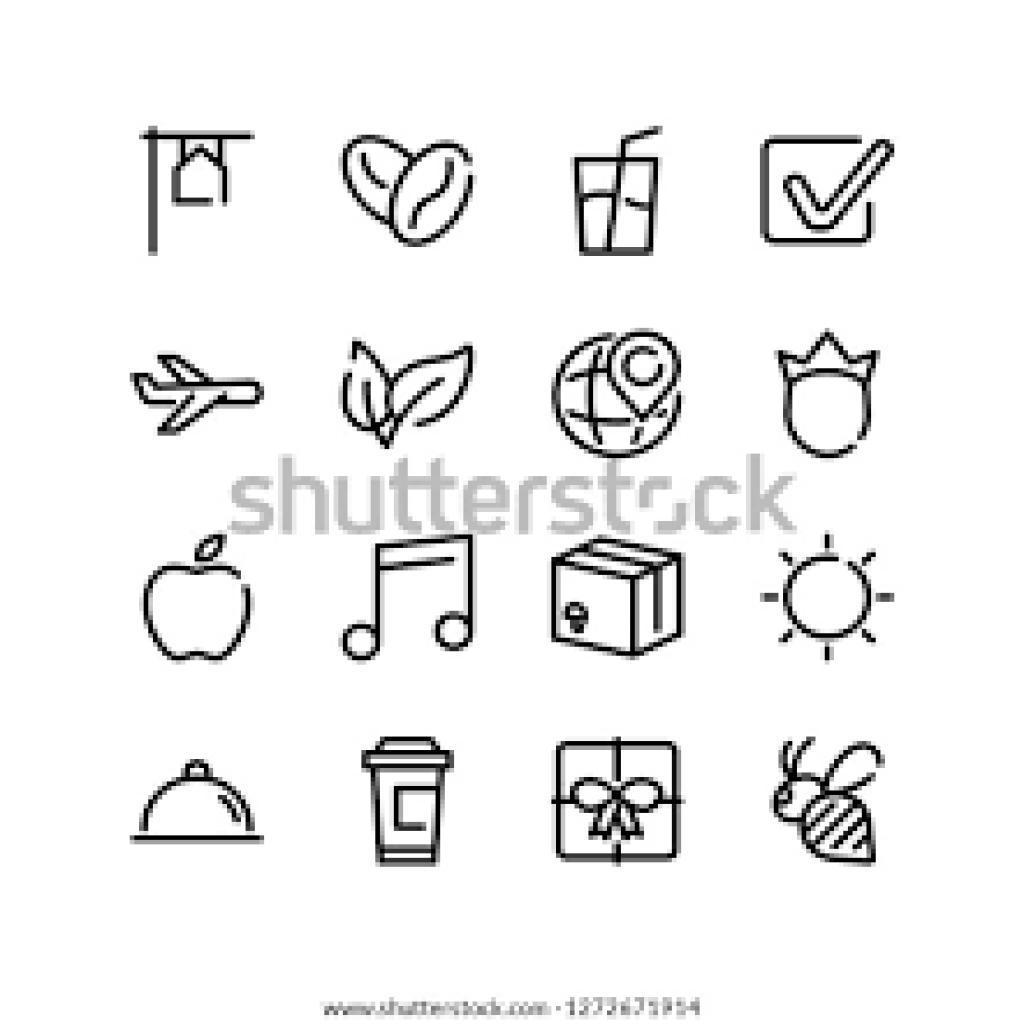checkbox: (743, 121, 901, 251)
icon: (736, 720, 908, 877), (531, 733, 696, 875), (337, 532, 491, 684), (535, 329, 693, 465), (125, 119, 273, 258), (335, 119, 483, 253), (542, 540, 696, 663), (342, 722, 462, 877), (555, 119, 684, 263), (752, 534, 898, 661), (123, 746, 278, 863), (341, 331, 479, 460), (138, 532, 262, 673), (125, 335, 274, 441), (763, 339, 885, 468)
